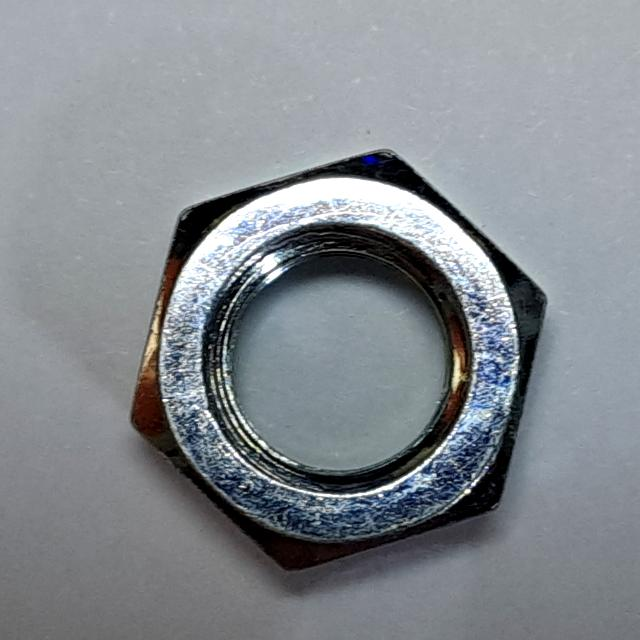Excellent: (119, 141, 567, 586)
